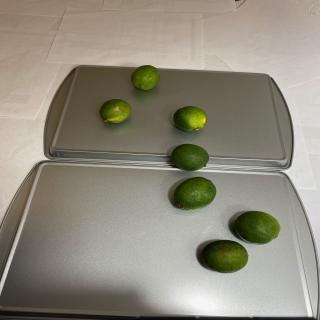Lemon: (233, 210, 280, 245), (201, 240, 248, 274), (173, 177, 217, 210), (171, 144, 209, 171), (173, 105, 207, 132), (99, 98, 132, 124), (131, 64, 160, 90)
